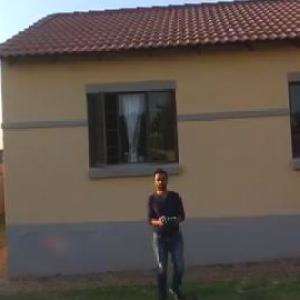follow: (143, 159, 197, 299)
